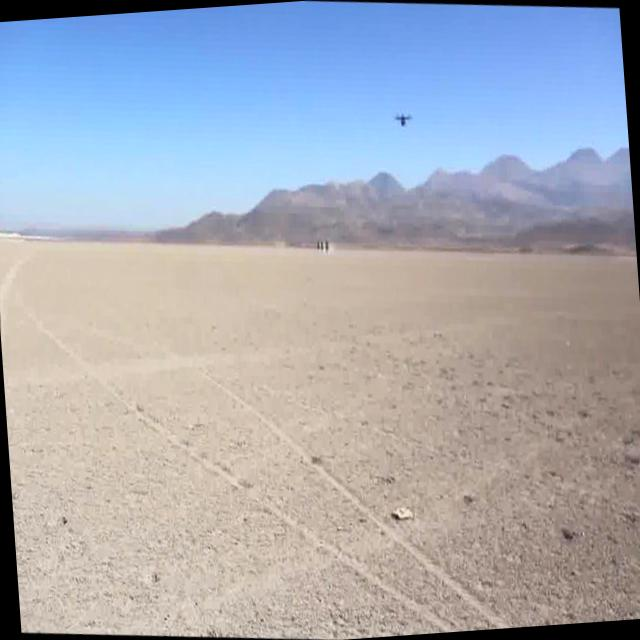drone: (392, 106, 415, 133)
